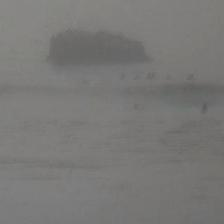surfer: (201, 104, 208, 113), (146, 72, 156, 78), (130, 104, 138, 111), (186, 74, 194, 81), (118, 74, 126, 80), (132, 74, 140, 80)
